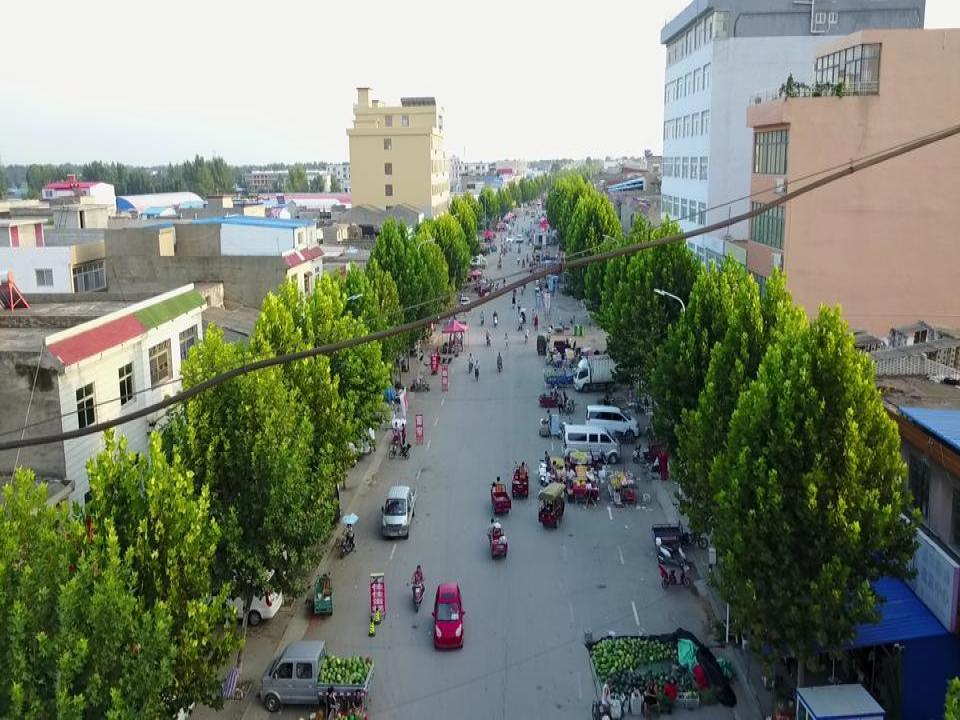car: (434, 582, 464, 650), (460, 298, 470, 310)
truck: (259, 640, 375, 712), (381, 485, 417, 536)
van: (564, 427, 621, 464), (585, 406, 640, 439), (574, 355, 616, 389)
